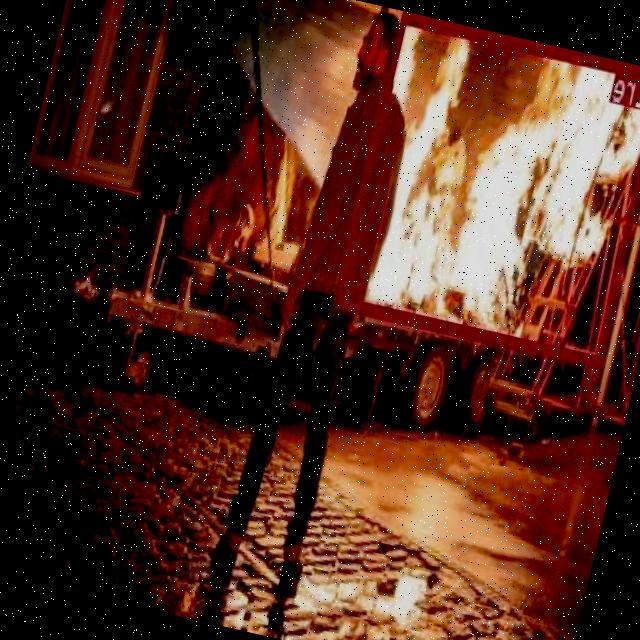fire: (337, 11, 640, 364)
